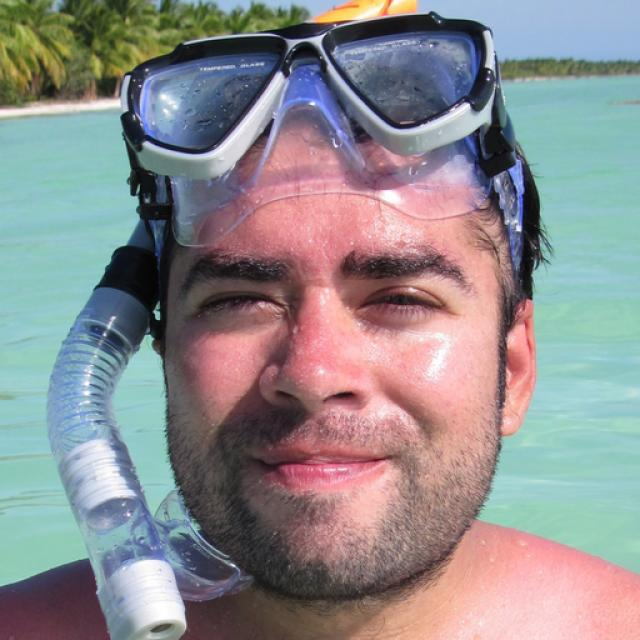happy: (160, 113, 502, 596)
